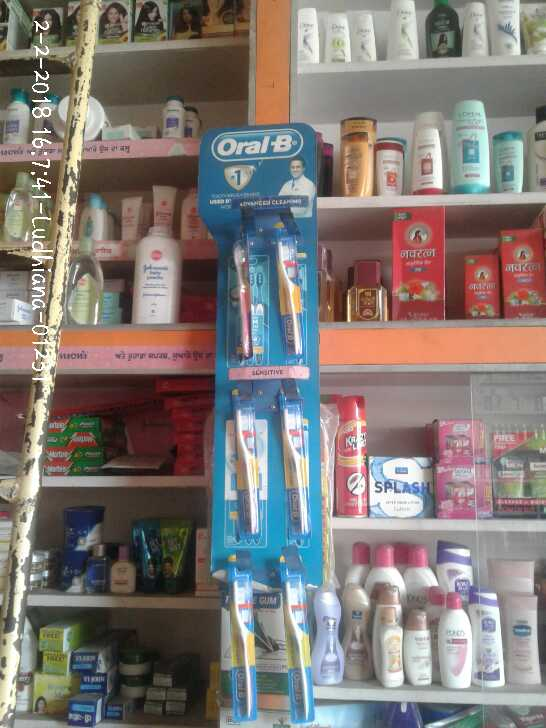oralb: (216, 574, 267, 728), (267, 224, 319, 365), (223, 390, 261, 542), (277, 395, 315, 546), (227, 232, 268, 367), (283, 574, 318, 728)
